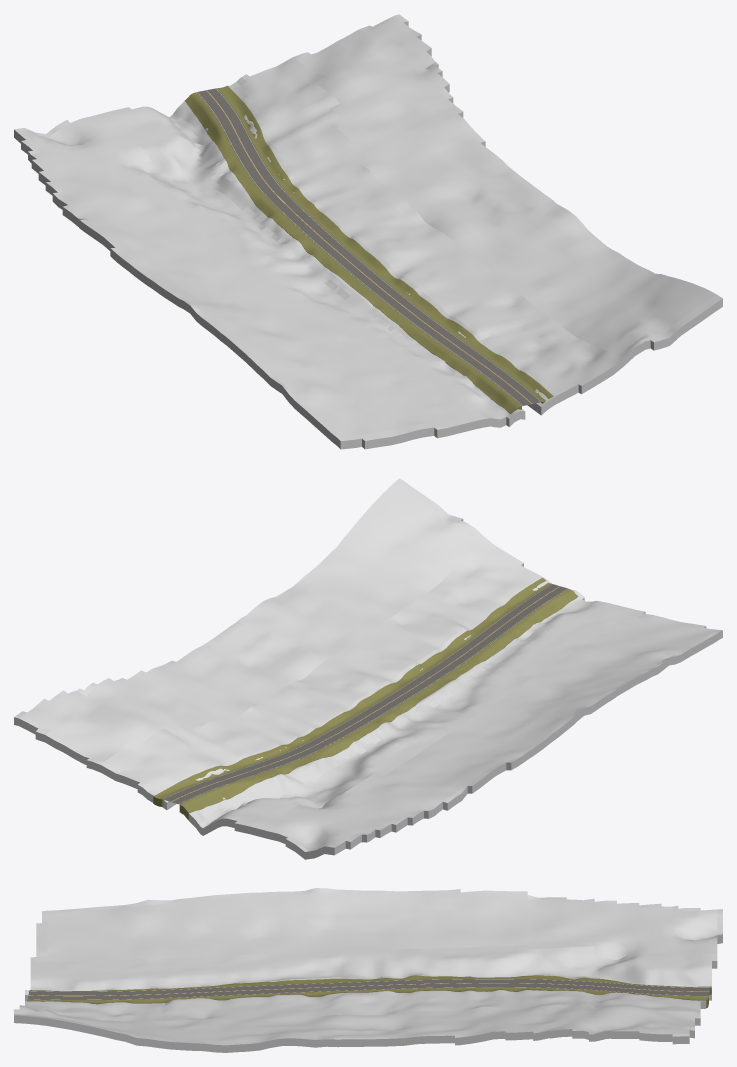
File: conz_138.glb
The picture shows the model from 3 angles, top to bottom: view 1: azimuth 30°, elevation 25°; view 2: azimuth 150°, elevation 25°; view 3: azimuth 270°, elevation 25°; orthographic projection. The views are drawn at different scales.
Visible parts, largest first — view 1: terrain138, road138, verge138L, verge138R, paint_white138; view 2: terrain138, road138, verge138L, verge138R; view 3: terrain138, road138, verge138R, verge138L, paint_white138, paint_yellow138.
Part boxes in pixels (<box>): terrain138: <box>14,14,722,449</box>; road138: <box>196,88,541,405</box>; verge138L: <box>184,92,521,413</box>; verge138R: <box>217,85,553,403</box>; paint_white138: <box>197,89,540,405</box>; terrain138: <box>14,478,722,859</box>; road138: <box>163,584,568,804</box>; verge138L: <box>179,589,578,819</box>; verge138R: <box>153,578,551,806</box>; terrain138: <box>14,888,722,1052</box>; road138: <box>27,978,710,1000</box>; verge138R: <box>27,987,708,1007</box>; verge138L: <box>29,975,711,994</box>; paint_white138: <box>31,979,710,999</box>; paint_yellow138: <box>28,983,709,996</box>.
Bounding box in the file's own units: 156 × 30.84 × 254.
